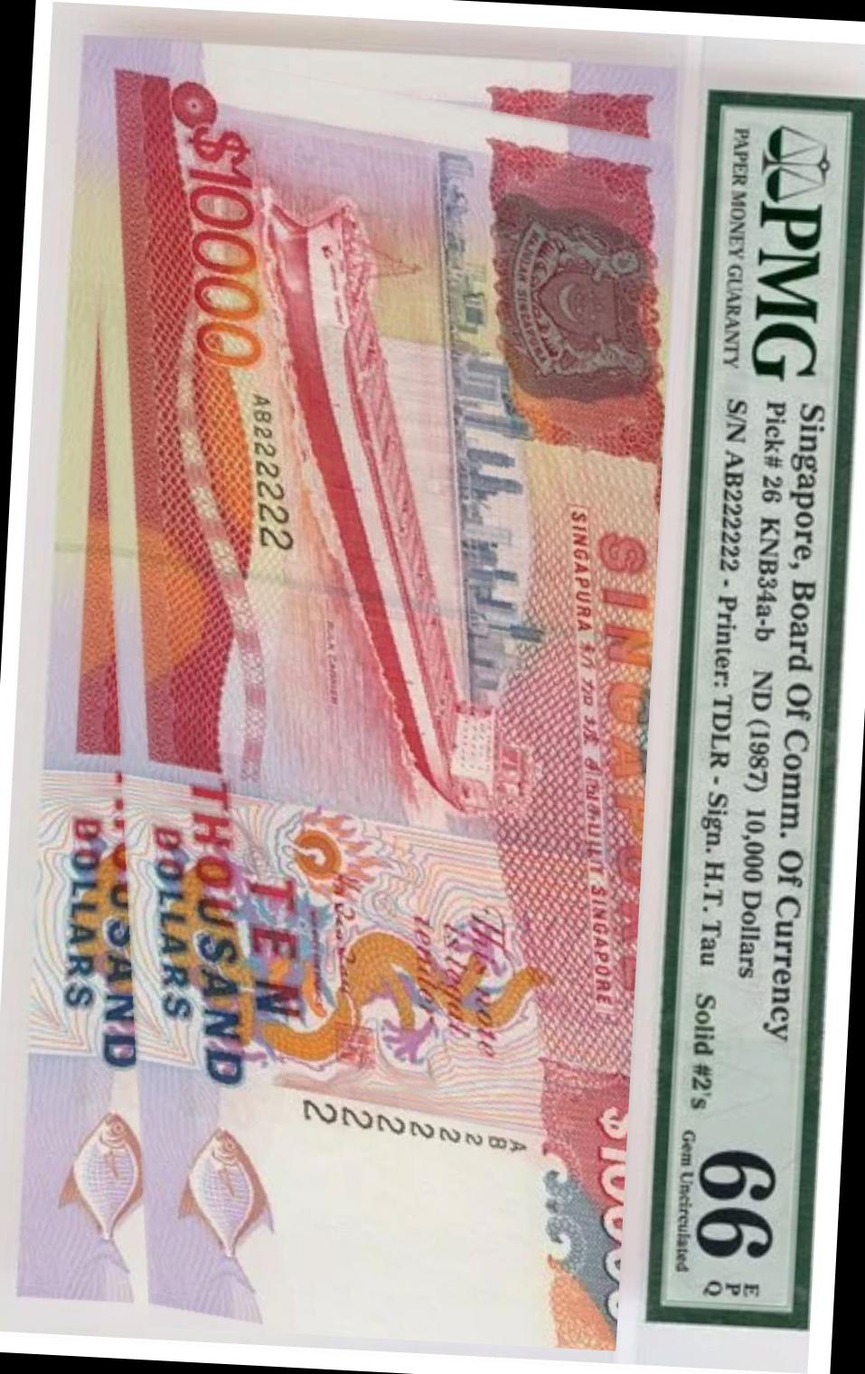10000SingaporeDollar: (17, 37, 684, 1351)
